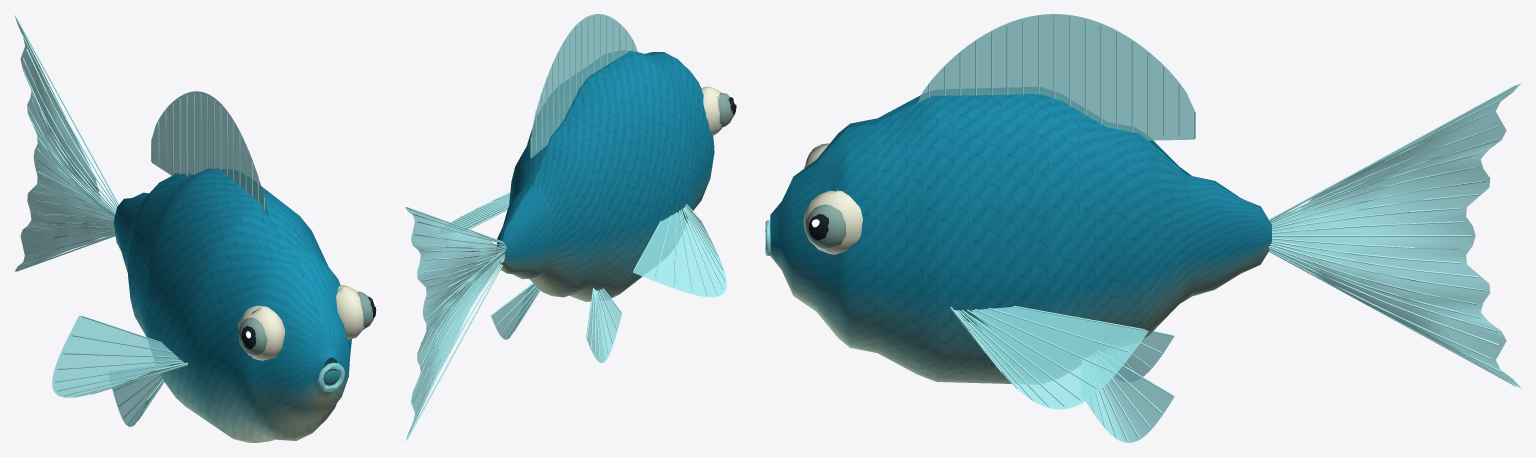
File: azure-lite.glb
3 renders of one model, left to right at view 1: azimuth 30°, elevation 25°; view 2: azimuth 150°, elevation 25°; view 3: azimuth 270°, elevation 25°, orthographic. The views are drawn at different scales.
Parts seen in each view (by area): view 1: Body, TailPivot membrane, DorsalPivot membrane, PectoralPivot-1 membrane, VentralPivot-1 membrane, Eye sclera, Eye sclera.001, Iris, Mouth rim, TailPivot ray.022, TailPivot ray.021, TailPivot ray.020; view 2: Body, TailPivot membrane, DorsalPivot membrane, PectoralPivot-1 membrane, VentralPivot-1 membrane, VentralPivot1 membrane, PectoralPivot1 membrane, Eye sclera, Iris, TailPivot ray, TailPivot ray.001; view 3: Body, TailPivot membrane, DorsalPivot membrane, PectoralPivot1 membrane, VentralPivot1 membrane, Eye sclera.001, VentralPivot-1 membrane, Iris.001.
Part boxes in pixels (box(x1,y1,x2,y2)): Body: box(113, 168, 351, 442); TailPivot membrane: box(14, 15, 114, 271); DorsalPivot membrane: box(151, 91, 268, 217); PectoralPivot-1 membrane: box(52, 315, 182, 397); VentralPivot-1 membrane: box(112, 374, 163, 426); Eye sclera: box(238, 305, 285, 360); Eye sclera.001: box(320, 285, 364, 339); Iris: box(238, 317, 267, 355); Mouth rim: box(317, 362, 345, 391); TailPivot ray.022: box(16, 18, 119, 205); TailPivot ray.021: box(22, 33, 118, 206); TailPivot ray.020: box(26, 49, 116, 208); Body: box(496, 50, 714, 301); TailPivot membrane: box(405, 207, 504, 441); DorsalPivot membrane: box(531, 14, 637, 158); PectoralPivot-1 membrane: box(633, 207, 726, 297); VentralPivot-1 membrane: box(586, 289, 621, 362); VentralPivot1 membrane: box(491, 284, 538, 339); PectoralPivot1 membrane: box(449, 192, 510, 229); Eye sclera: box(701, 86, 721, 135); Iris: box(717, 92, 734, 127); TailPivot ray: box(407, 265, 502, 439); TailPivot ray.001: box(412, 258, 504, 424); Body: box(770, 87, 1271, 383); TailPivot membrane: box(1269, 83, 1520, 388); DorsalPivot membrane: box(918, 14, 1195, 140); PectoralPivot1 membrane: box(961, 307, 1148, 409); VentralPivot1 membrane: box(1086, 367, 1174, 442); Eye sclera.001: box(803, 190, 862, 254); VentralPivot-1 membrane: box(1123, 332, 1174, 376); Iris.001: box(805, 204, 846, 248).
Size of the model in its own units: 1.63 by 1.73 by 2.95.
9 materials, 1 textured.
